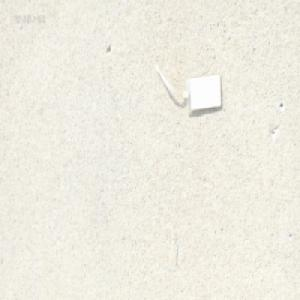LuggageTag: (152, 57, 224, 116)
